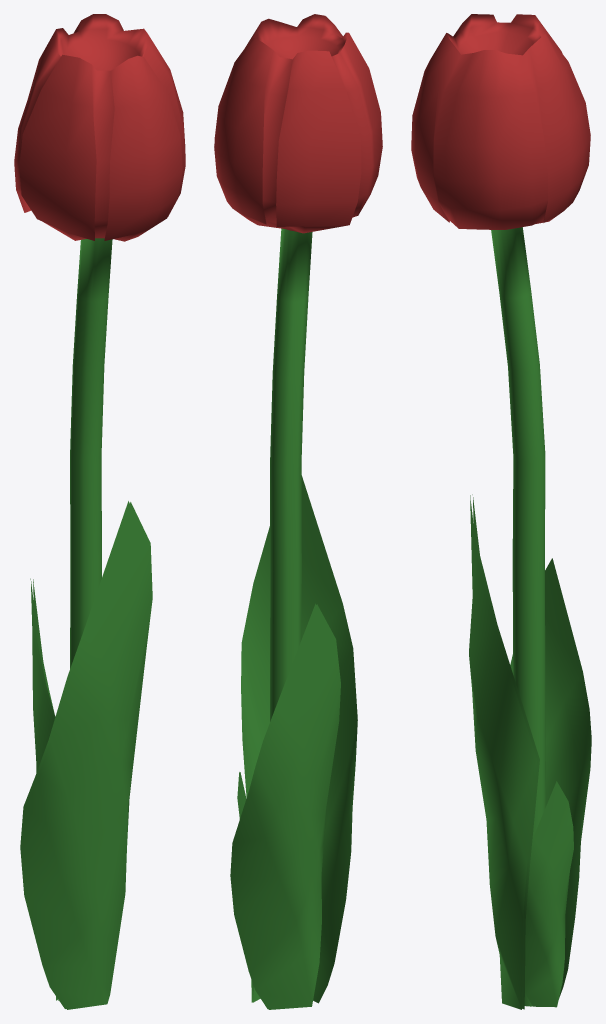
The model's file is flower1_LP.fbx.
3 renders of one model, left to right at view 1: azimuth 30°, elevation 25°; view 2: azimuth 150°, elevation 25°; view 3: azimuth 270°, elevation 25°, orthographic.
Visible parts, largest first — view 1: polySurface8; view 2: polySurface8; view 3: polySurface8.
Boxes of the visible parts, left/top/right/bottom form: polySurface8: left=14, top=14, right=185, bottom=1009; polySurface8: left=214, top=14, right=382, bottom=1009; polySurface8: left=411, top=14, right=591, bottom=1009.
Size of the model in its own units: 0.357 by 2.15 by 0.3605.
